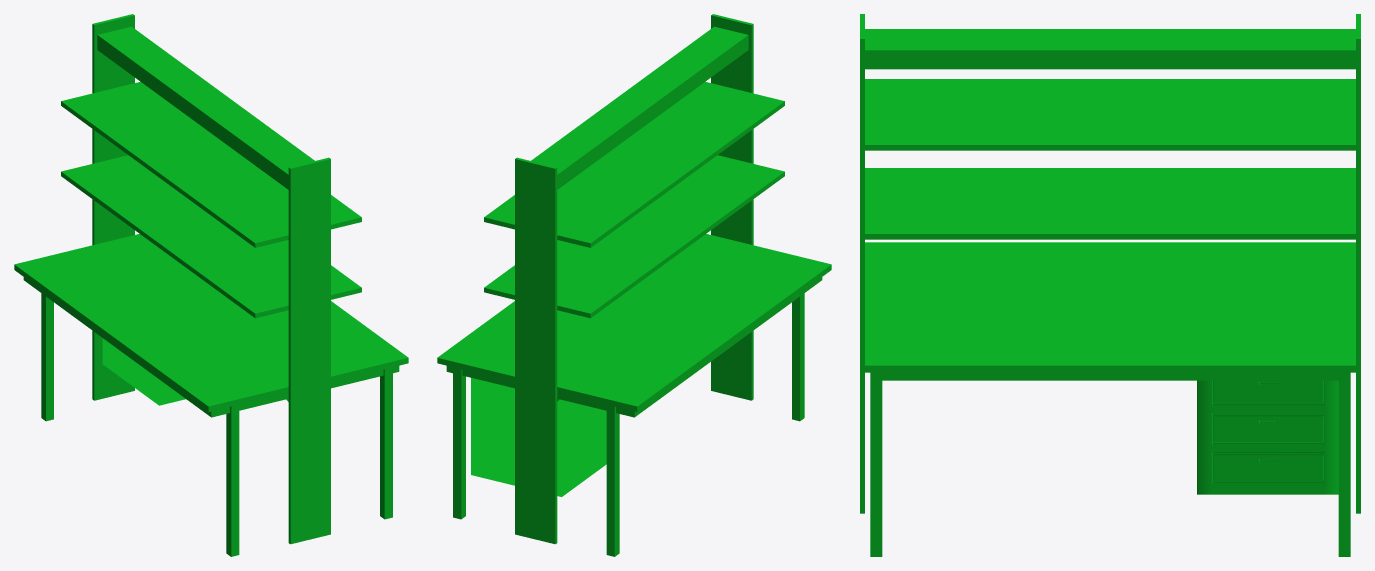
The model's file is LAB_Table.FBX.
3 views of the same model, side by side, from view 1: azimuth 30°, elevation 25°; view 2: azimuth 150°, elevation 25°; view 3: azimuth 270°, elevation 25° (orthographic). The views are drawn at different scales.
Parts seen in each view (by area): view 1: LabTable; view 2: LabTable; view 3: LabTable.
Boxes of the visible parts, left/top/right/bottom form: LabTable: left=14, top=14, right=408, bottom=556; LabTable: left=437, top=14, right=831, bottom=556; LabTable: left=860, top=14, right=1360, bottom=556.
Size of the model in its own units: 128 by 231 by 219.
